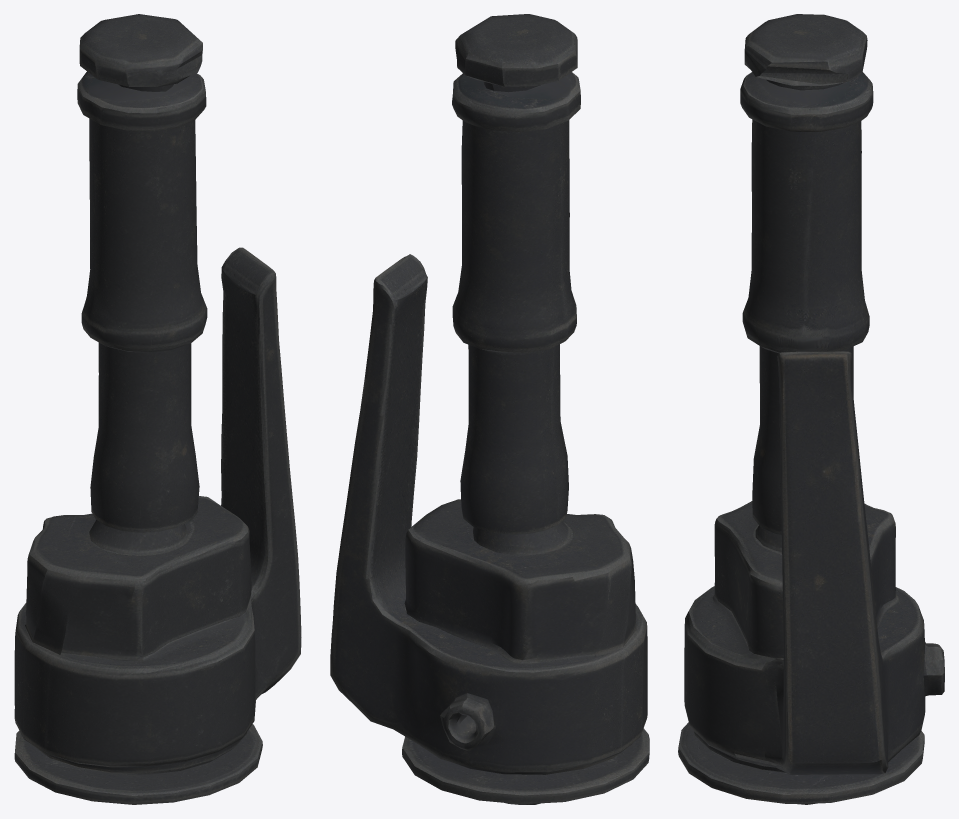
The model's file is wall_switch_lever.gltf.
3 renders of one model, left to right at view 1: azimuth 30°, elevation 25°; view 2: azimuth 150°, elevation 25°; view 3: azimuth 270°, elevation 25°, orthographic.
Visible parts, largest first — view 1: Lever; view 2: Lever; view 3: Lever.
Part boxes in pixels (x1,y1,x2,y2): Lever: (14,14,301,804); Lever: (330,14,649,804); Lever: (678,14,944,804).
Bounding box in the file's own units: 0.0817 × 0.22 × 0.0703.
1 material, 1 textured.
